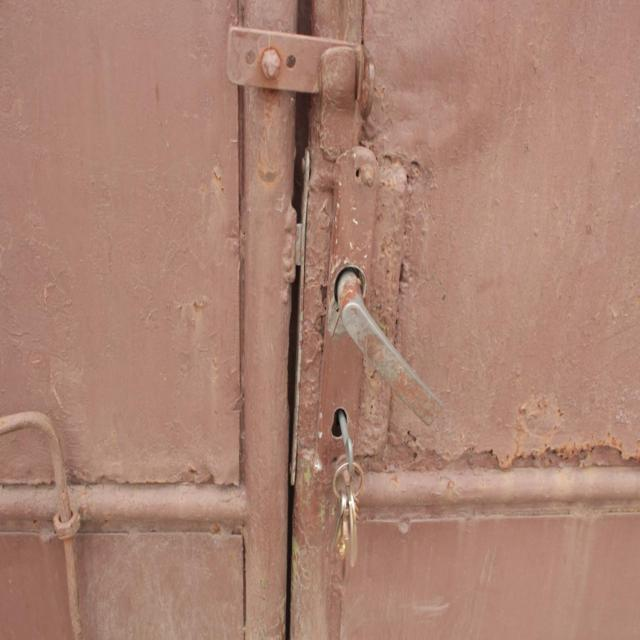Frontdoor keys: (319, 398, 380, 506)
